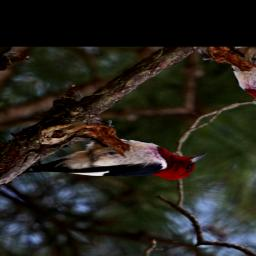Woodpecker: (14, 100, 219, 233)
